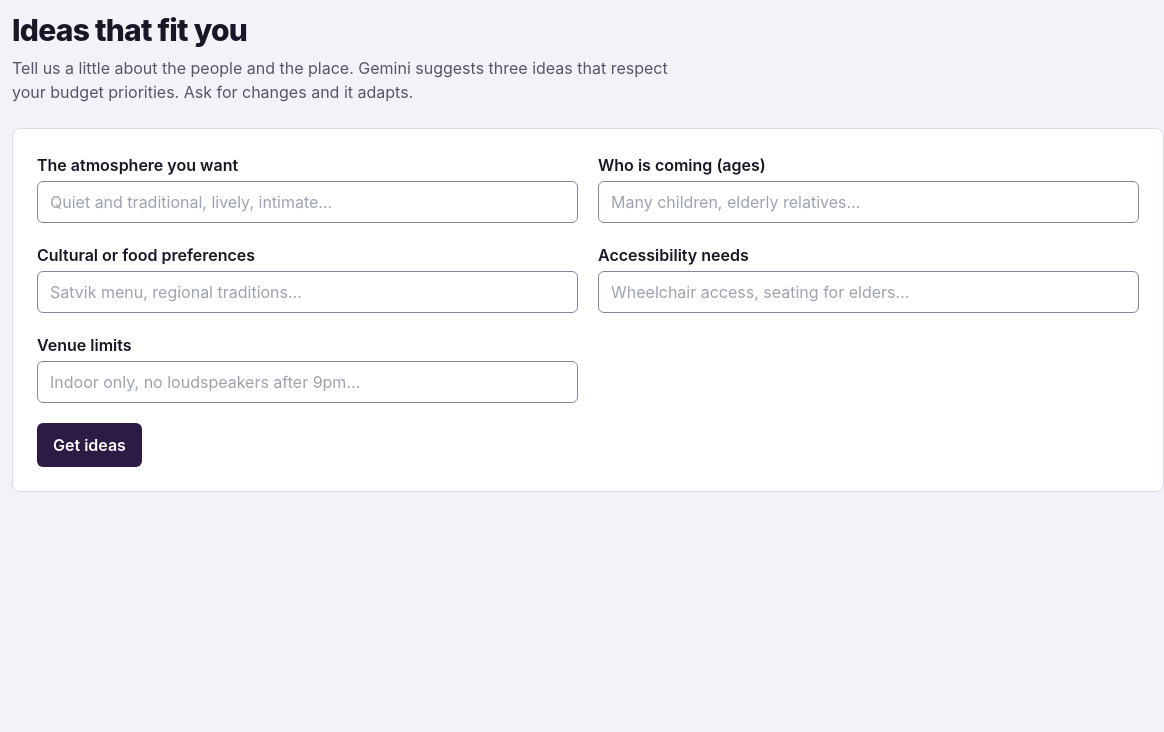
Test: ideas › shows a server error message without crashing
The image size is (1164, 732).
Click the button "Get ideas": (89, 445) [37, 423, 142, 467]
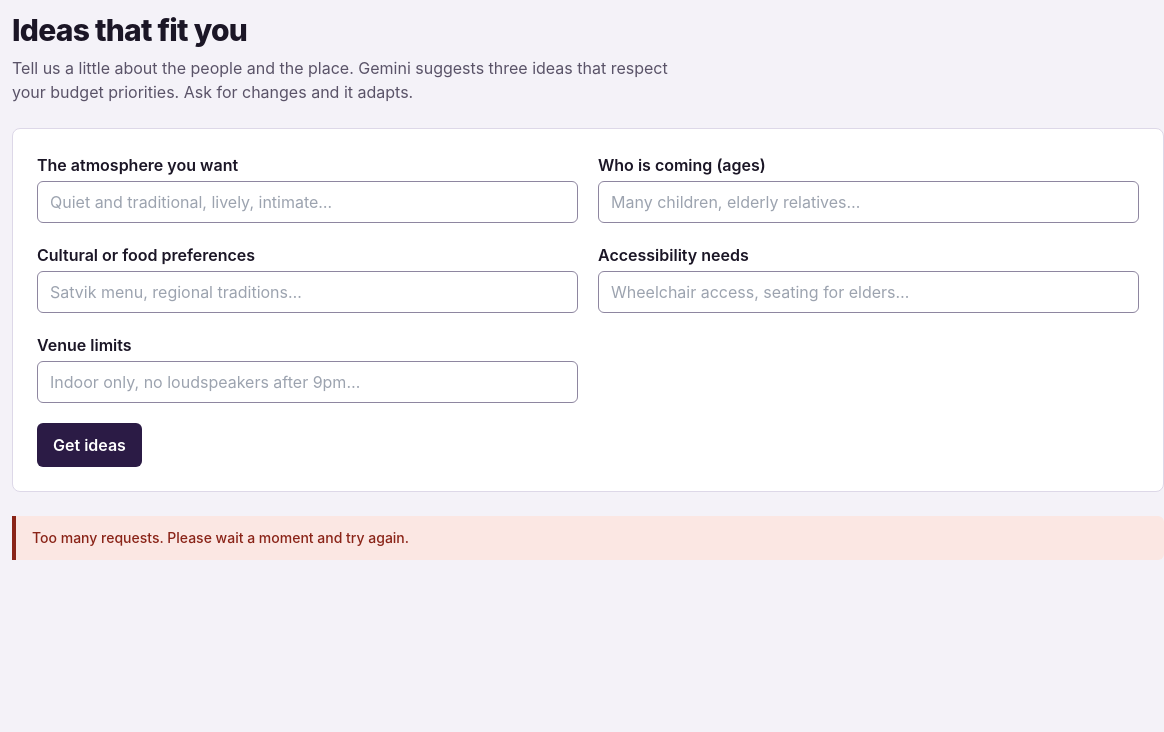
Check: the message shows "Too many requests", box [32, 529, 409, 546]
